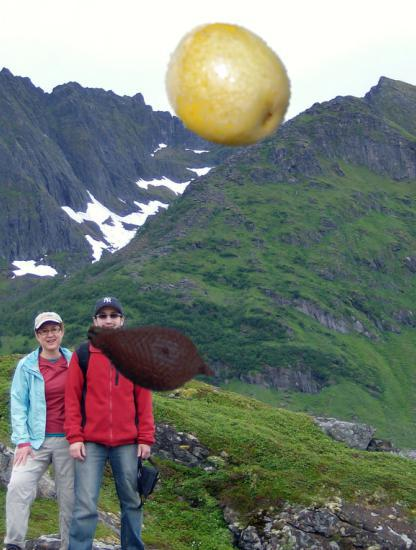Maracuja: (162, 19, 296, 153)
Salak: (84, 289, 218, 423)
